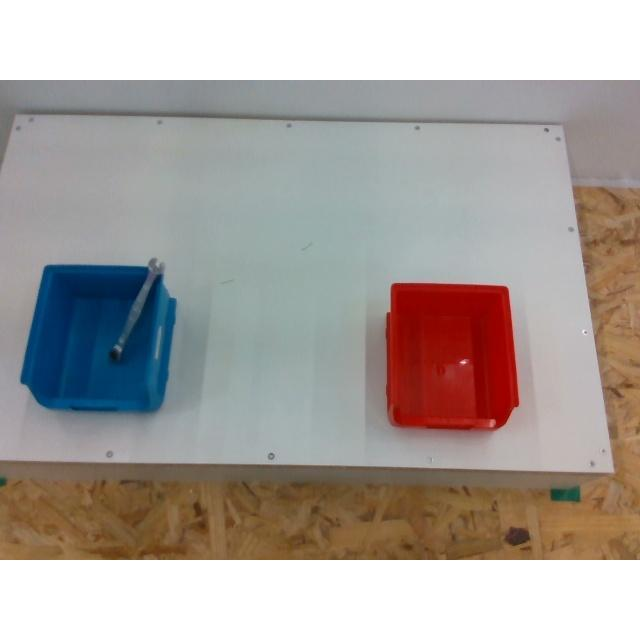Wrench: (108, 256, 164, 360)
container_box_blue: (21, 266, 175, 410)
container_box_red: (385, 282, 521, 430)
